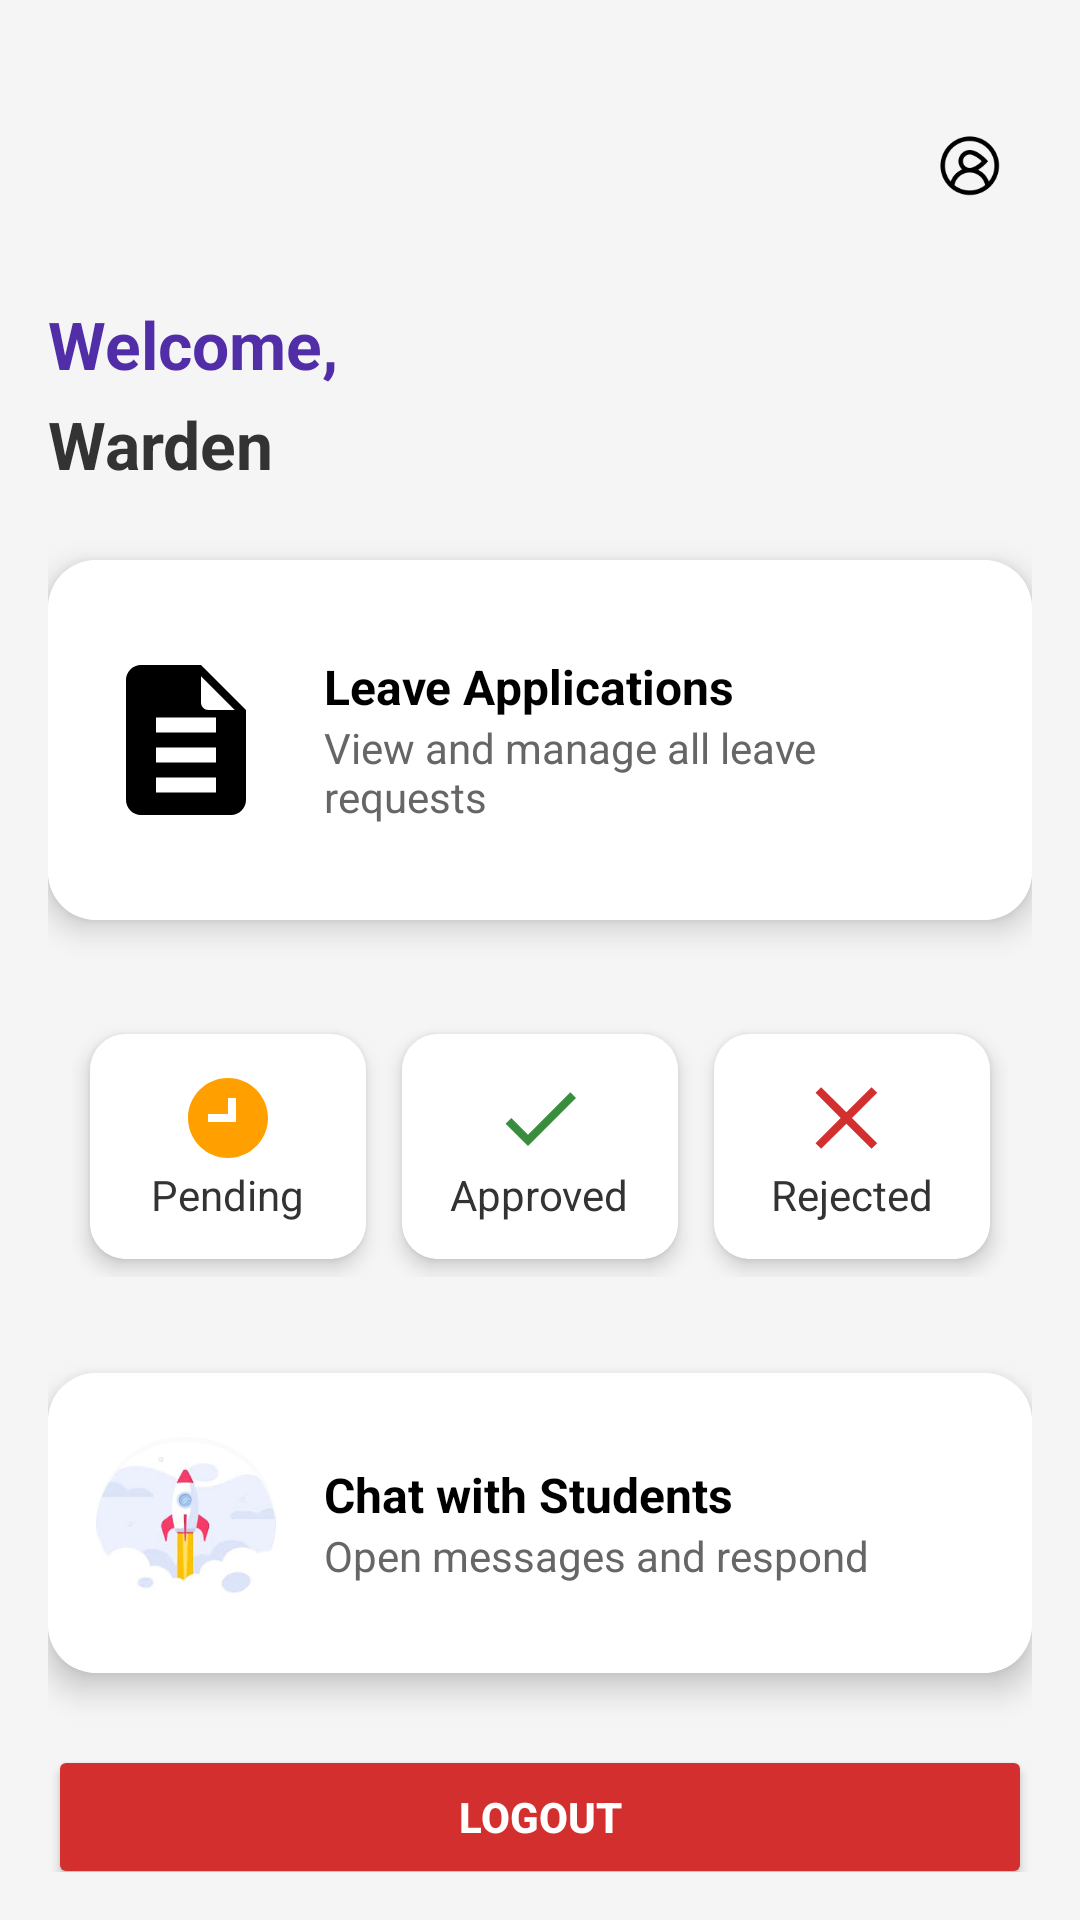

Screen size 1080w x 1920h. Icon name, then its box in pixels as box=[x1, y1, x2, y2]:
Profile: box=[940, 136, 1000, 196]
